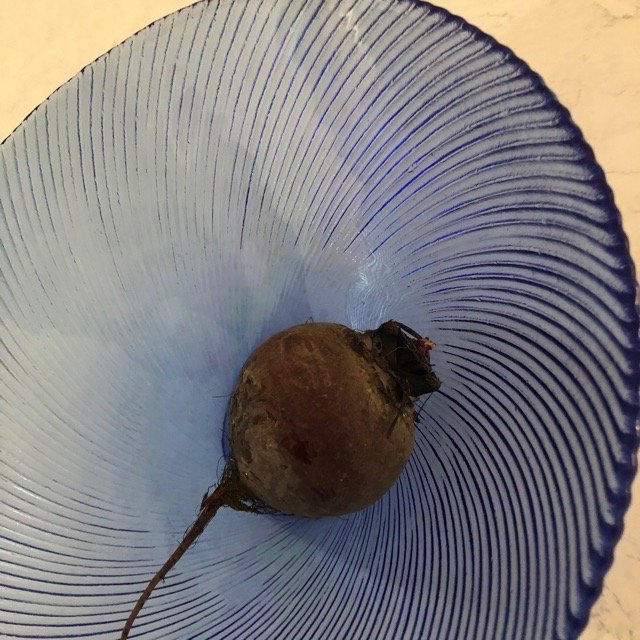beet: (122, 322, 439, 640)
